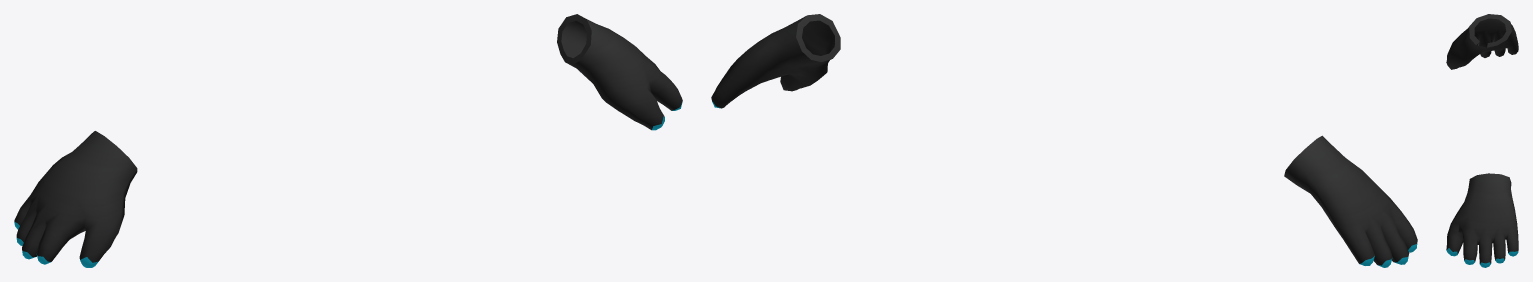
The model's file is Costume_7_03.glb.
The picture shows the model from 3 angles, left to right: view 1: azimuth 30°, elevation 25°; view 2: azimuth 150°, elevation 25°; view 3: azimuth 270°, elevation 25°; orthographic projection. The views are drawn at different scales.
Parts seen in each view (by area): view 1: Costume_7_03; view 2: Costume_7_03; view 3: Costume_7_03.
Boxes of the visible parts, x1,y1,x2,y2 form: Costume_7_03: (14,14,682,267); Costume_7_03: (711,14,1417,267); Costume_7_03: (1446,14,1518,267).
Bounding box in the file's own units: 0.8285 × 0.1244 × 0.1179.
2 materials, 2 textured.
